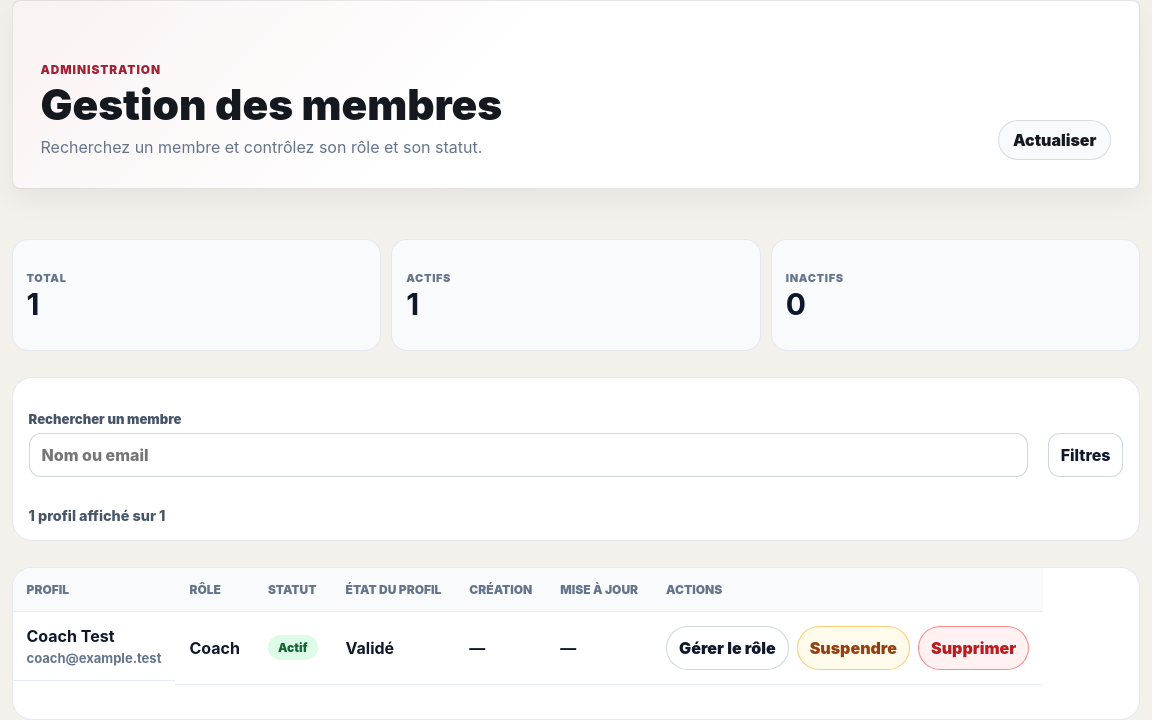
Test: rôles et statuts des membres › exige une confirmation supplémentaire pour un rôle sensible
Click the button "Gérer le rôle" at (727, 648), box [666,626,789,670]
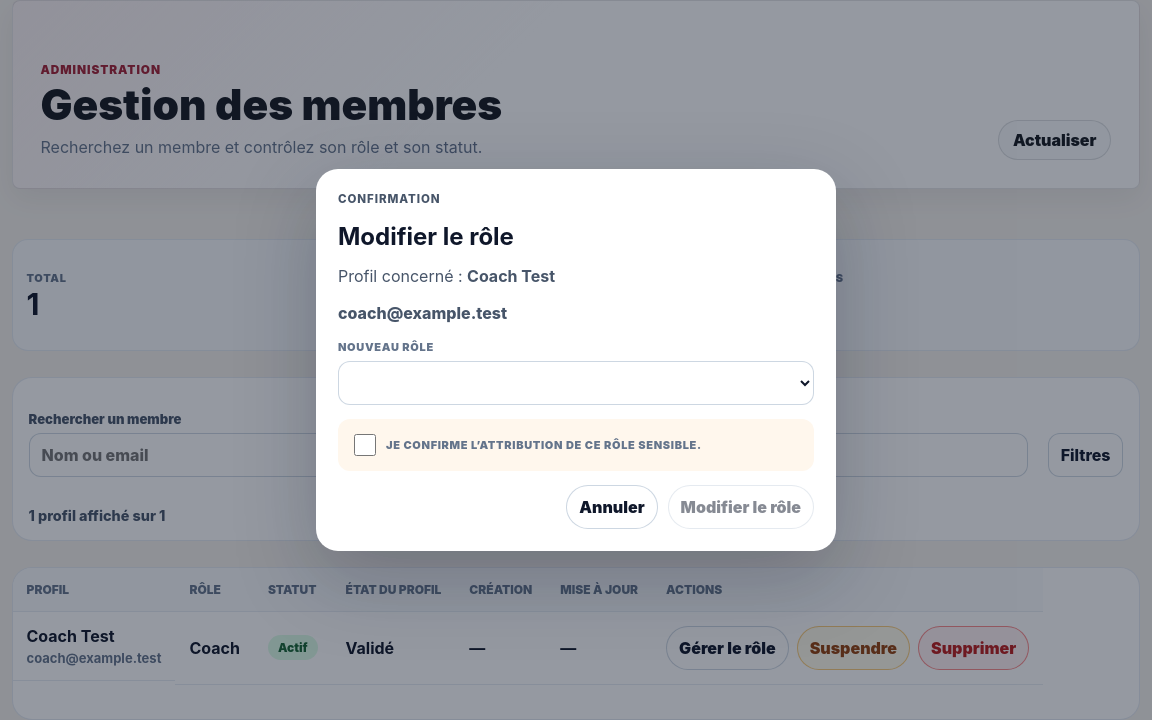
Select "admin" in the dropdown labelled "Nouveau rôle" at (576, 382), box [338,360,814,404]
Expected: the button "Modifier le rôle" is disabled, [668,484,814,528]
Click the checkbox labelled "Je confirme l’attribution de ce rôle sensible." at (365, 444), box [354,434,376,456]
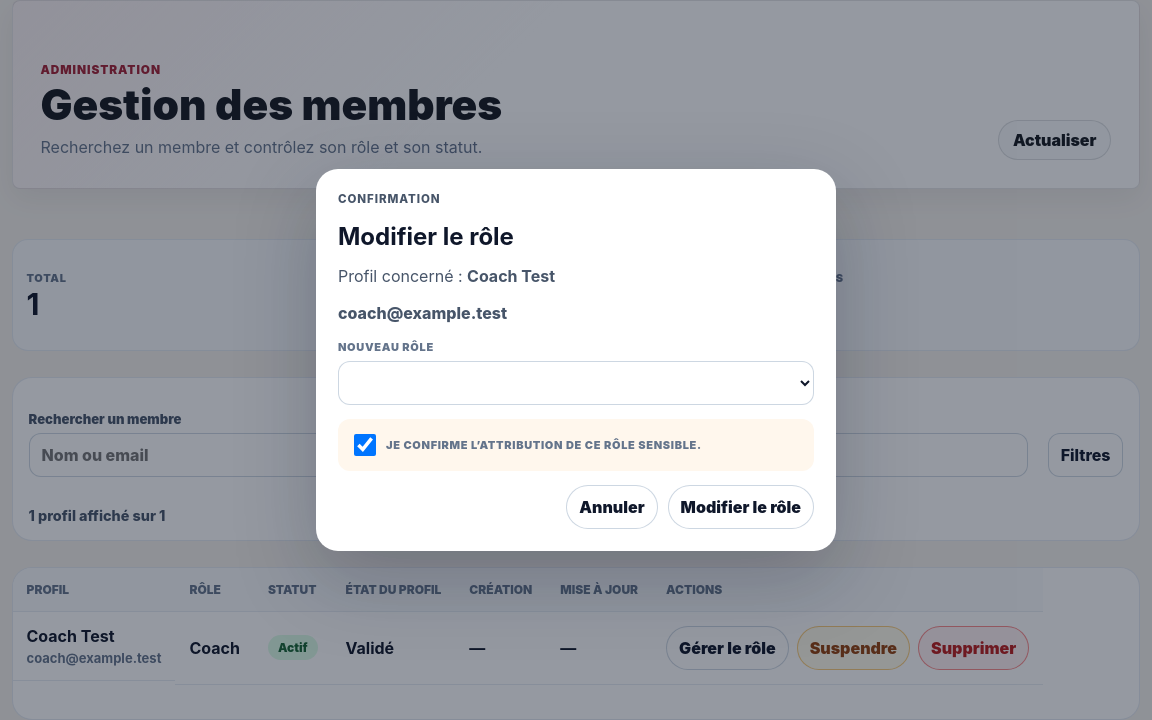
Expected: the button "Modifier le rôle" is enabled, [668,484,814,528]
